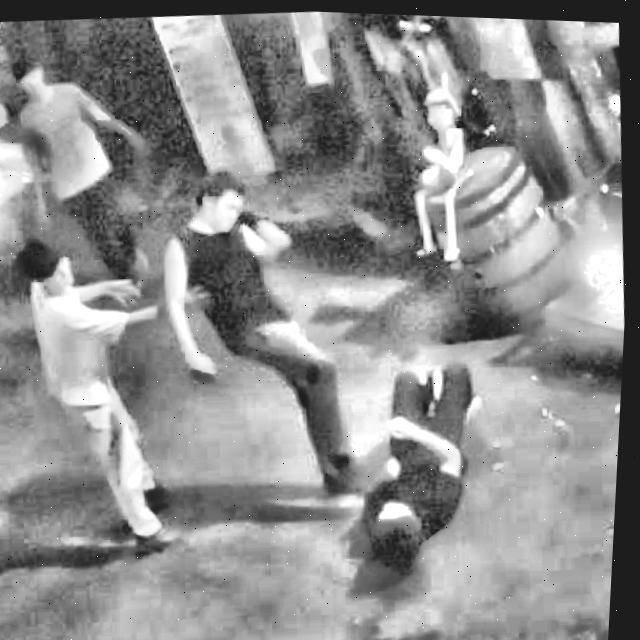robbery: (12, 167, 497, 589)
